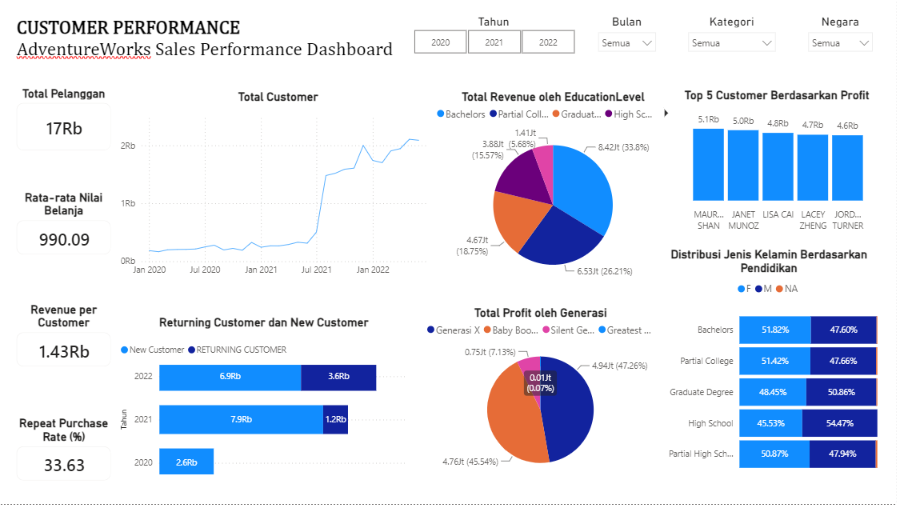

Layout of this report page (visuals, bound fields, positions):
{"tool":"powerbi","page":{"name":"CUSTOMER","canvas":[1280,720],"ordinal":1},"visuals":[{"type":"textbox","box":[18.3,20,556.7,76.7],"z":0},{"type":"slicer","title":"Tahun","fields":{"Values":["Calendar.Date.Variasi.Hierarki Tanggal.Tahun"]},"box":[565.2,20,279,63],"z":1000},{"type":"slicer","title":"Kategori","fields":{"Values":["Product_Categories.CategoryName"]},"box":[972.6,20,145,63],"z":2000},{"type":"slicer","title":"Negara","fields":{"Values":["Territory.Country"]},"box":[1144.2,20,112.5,63],"z":3000},{"type":"slicer","title":"Bulan","fields":{"Values":["Calendar.Date.Variasi.Hierarki Tanggal.Bulan"]},"box":[844.2,20,102.5,63],"z":4000},{"type":"cardVisual","title":"Rata-rata Nilai Belanja","fields":{"Data":["Sales.Average Order Value"]},"box":[18.5,271.6,145,98],"z":6000},{"type":"cardVisual","title":"Revenue per Customer","fields":{"Data":["Sales.revenue per Customer"]},"box":[18.5,432.1,145,98],"z":8000},{"type":"cardVisual","title":"Total Pelanggan","fields":{"Data":["Sales.Total Customer"]},"box":[18.5,122.2,145,98],"z":9000},{"type":"lineChart","title":"Total Customer","fields":{"Category":["Calendar.Date.Variasi.Hierarki Tanggal.Tahun","Calendar.Date.Variasi.Hierarki Tanggal.Bulan"],"Y":["Sales.Total Customer"]},"box":[166.7,122.2,460.5,280.2],"z":10000},{"type":"columnChart","title":"Top 5 Customer Berdasarkan Profit","fields":{"Category":["Customer.Nama Customer"],"Y":["Sales.Total Profit"]},"box":[961.4,121.4,297.1,215.7],"z":11000},{"type":"hundredPercentStackedBarChart","title":"Distribusi Jenis Kelamin Berdasarkan Pendidikan","fields":{"Category":["Customer.EducationLevel"],"Series":["Customer.Gender"],"Y":["Sales.Total Revenue"]},"box":[938.3,348.3,320,343.3],"z":12000},{"type":"pieChart","fields":{"Category":["Customer.EducationLevel"],"Y":["Sales.Total Revenue"]},"box":[618.5,122.2,343.2,291.4],"z":13000},{"type":"pieChart","fields":{"Category":["Customer.Generasi"],"Y":["Sales.Total Profit"]},"box":[595.1,432.1,353.1,259.3],"z":14000},{"type":"barChart","title":"Returning Customer dan New Customer","fields":{"Category":["Calendar.Date.Variasi.Hierarki Tanggal.Tahun"],"Y":["Sales.New Customer","Sales.RETURNING CUSTOMER"]},"box":[166.7,450.6,419.8,240.7],"z":15000},{"type":"cardVisual","title":"Repeat Purchase Rate (%)","fields":{"Data":["Customer.Repeat Purchase Rate %"]},"box":[18.5,593.8,145,98],"z":15001}]}

Visuals, with their boxes in screenshot pixels (x1, y1, x2, y2), scaled from the page's 1280x720 canvas onto the 897x505 screenshot:
textbox: x1=13, y1=14, x2=403, y2=68
"Tahun" slicer: x1=396, y1=14, x2=592, y2=58
"Kategori" slicer: x1=682, y1=14, x2=783, y2=58
"Negara" slicer: x1=802, y1=14, x2=881, y2=58
"Bulan" slicer: x1=592, y1=14, x2=663, y2=58
"Rata-rata Nilai Belanja" cardVisual: x1=13, y1=190, x2=115, y2=259
"Revenue per Customer" cardVisual: x1=13, y1=303, x2=115, y2=372
"Total Pelanggan" cardVisual: x1=13, y1=86, x2=115, y2=154
"Total Customer" lineChart: x1=117, y1=86, x2=440, y2=282
"Top 5 Customer Berdasarkan Profit" columnChart: x1=674, y1=85, x2=882, y2=236
"Distribusi Jenis Kelamin Berdasarkan Pendidikan" hundredPercentStackedBarChart: x1=658, y1=244, x2=882, y2=485
pieChart - Customer.EducationLevel x Sales.Total Revenue: x1=433, y1=86, x2=674, y2=290
pieChart - Customer.Generasi x Sales.Total Profit: x1=417, y1=303, x2=664, y2=485
"Returning Customer dan New Customer" barChart: x1=117, y1=316, x2=411, y2=485
"Repeat Purchase Rate (%)" cardVisual: x1=13, y1=416, x2=115, y2=485
